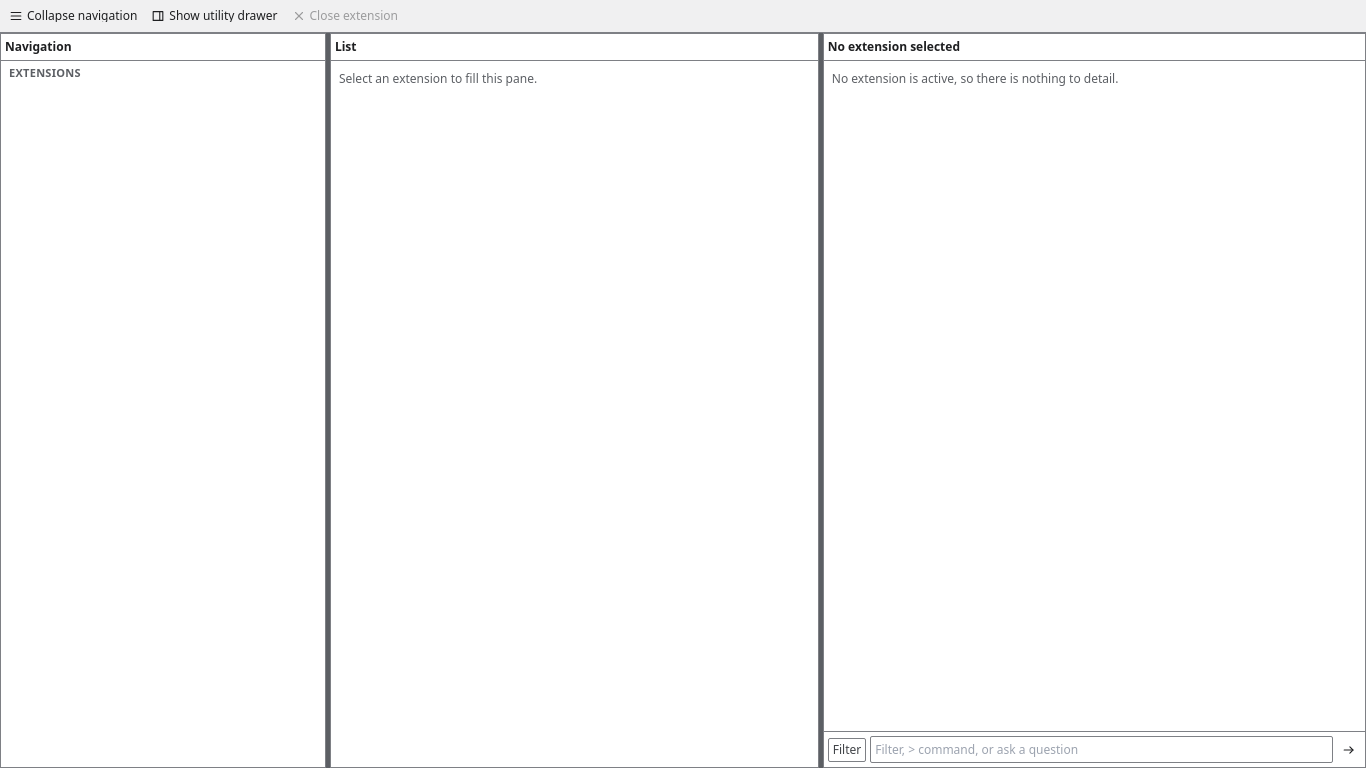
ShellLayout — writing a persisted layout › persists no drawer state, so a reload opens with the drawer shut
Click the button "Show utility drawer": (214, 16) x1=146 y1=4 x2=282 y2=28
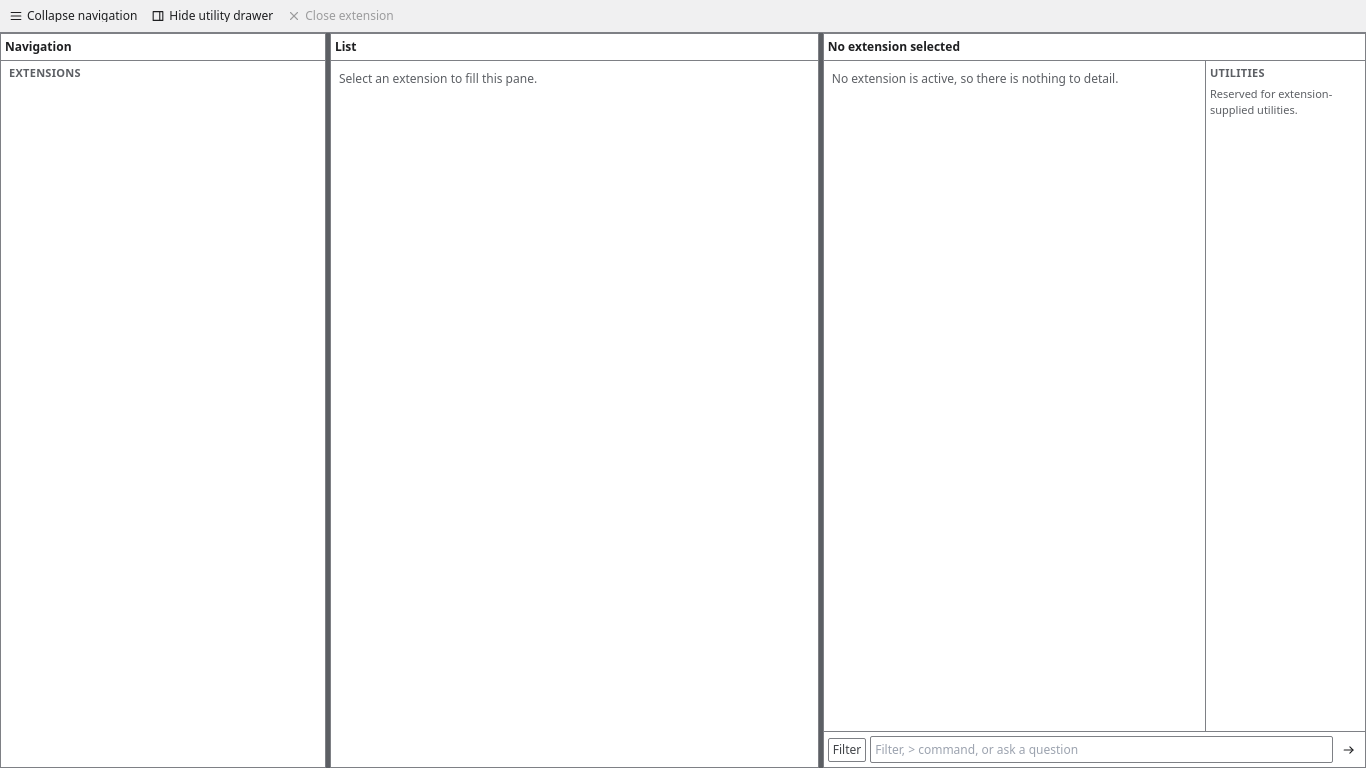
Expected: the element showing "Utilities Reserved for extension-supplied utilities." is shown, x1=1205 y1=61 x2=1365 y2=731
